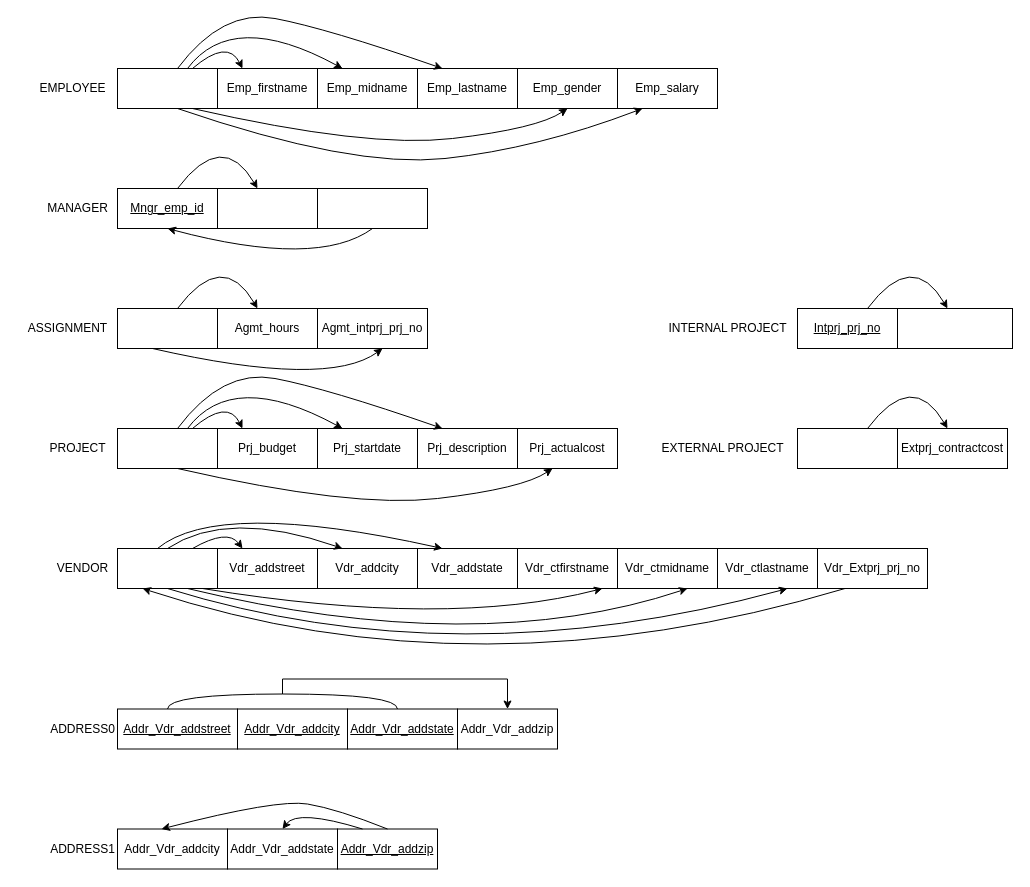
Some shapes in this 1030 by 887 pixel diagram are drawn without their labels. The centre of each missing label's shape, as x and y in pixels:
Agmt_emp_id: the point at 167,328
Emp_id: the point at 167,88
Extprj_prj_no: the point at 847,448
Intprj_priorityrating: the point at 954,328
Mngr_bonus: the point at 267,208
Mngr_Intprj_prj_no: the point at 372,208
Prj_no: the point at 167,448
Vdr_name: the point at 167,568
